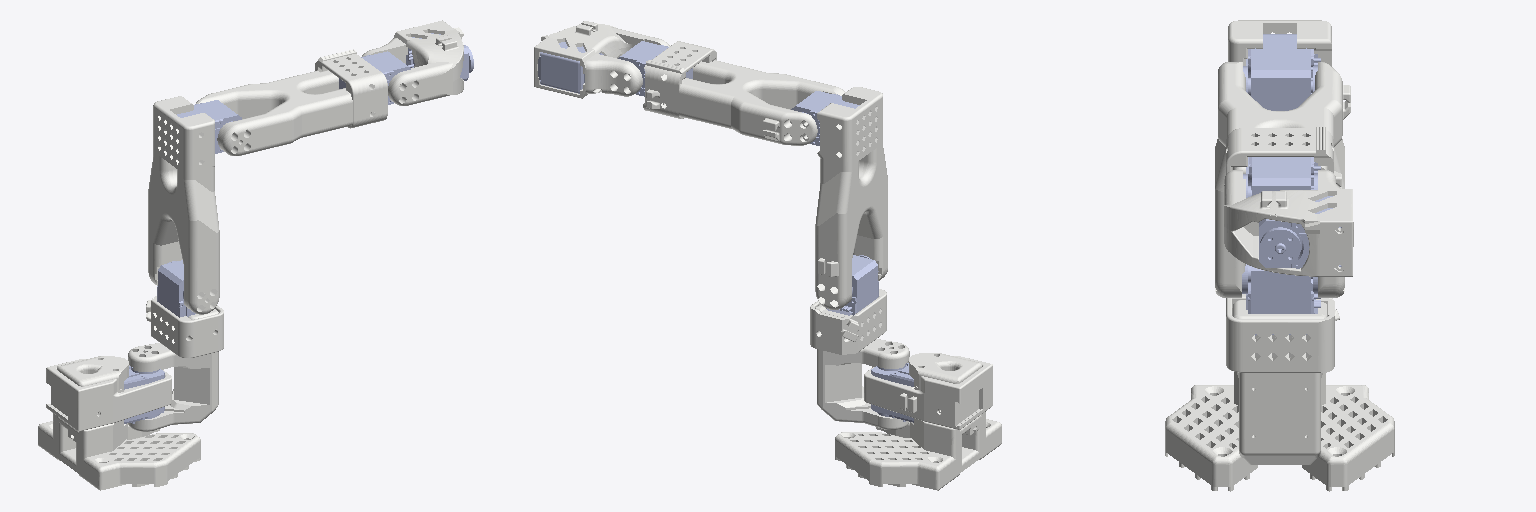
robot.urdf — so101:
<?xml version="1.0" ?>
<!-- Generated using onshape-to-robot -->
<!-- Onshape https://cad.onshape.com/documents/df54c2d0d5118dfe6b247a42/w/10fff0edb753715a22c52ae0/e/c8c1bb34d2419fdf63a96d15 -->
<robot name="so101">
  <!-- Link base_link -->
  <link name="base_link">
    <inertial>
      <origin xyz="0.0185 -0 0.0306" rpy="0 0 0"/>
      <mass value="0.2332"/>
      <inertia ixx="0.0002" ixy="-0" ixz="0" iyy="0.0002" iyz="0" izz="0.0002"/>
    </inertial>
    <!-- Part sts3215_03a -->
    <visual>
      <origin xyz="0.0327 0 0.0461" rpy="-0 -0 0"/>
      <geometry>
        <mesh filename="package://assets/sts3215_03a.stl"/>
      </geometry>
      <material name="sts3215_03a_material">
        <color rgba="0.7961 0.8235 0.9373 1"/>
      </material>
    </visual>
    <collision>
      <origin xyz="0.0327 0 0.0461" rpy="-0 -0 0"/>
      <geometry>
        <mesh filename="package://assets/sts3215_03a.stl"/>
      </geometry>
    </collision>
    <!-- Part base_link_step -->
    <visual>
      <origin xyz="0 0 0" rpy="1.5708 0 1.5708"/>
      <geometry>
        <mesh filename="package://assets/base_link_step.stl"/>
      </geometry>
      <material name="base_link_step_material">
        <color rgba="0.9647 0.9647 0.9529 1"/>
      </material>
    </visual>
    <collision>
      <origin xyz="0 0 0" rpy="1.5708 0 1.5708"/>
      <geometry>
        <mesh filename="package://assets/base_link_step.stl"/>
      </geometry>
    </collision>
    <!-- Part base_motor_holder_so101 -->
    <visual>
      <origin xyz="0 0 0" rpy="1.5708 0 1.5708"/>
      <geometry>
        <mesh filename="package://assets/base_motor_holder_so101.stl"/>
      </geometry>
      <material name="base_motor_holder_so101_material">
        <color rgba="0.9647 0.9647 0.9529 1"/>
      </material>
    </visual>
    <collision>
      <origin xyz="0 0 0" rpy="1.5708 0 1.5708"/>
      <geometry>
        <mesh filename="package://assets/base_motor_holder_so101.stl"/>
      </geometry>
    </collision>
  </link>
  <!-- Link link_1 -->
  <link name="link_1">
    <inertial>
      <origin xyz="0.0311 0 -0.012" rpy="0 0 0"/>
      <mass value="0.1528"/>
      <inertia ixx="0.0002" ixy="0" ixz="0" iyy="0.0002" iyz="-0" izz="0"/>
    </inertial>
    <!-- Part rotation_pitch_so101 -->
    <visual>
      <origin xyz="-0.012 0 0.0464" rpy="-1.5708 0 3.1416"/>
      <geometry>
        <mesh filename="package://assets/rotation_pitch_so101.stl"/>
      </geometry>
      <material name="rotation_pitch_so101_material">
        <color rgba="0.9647 0.9647 0.9529 1"/>
      </material>
    </visual>
    <collision>
      <origin xyz="-0.012 0 0.0464" rpy="-1.5708 0 3.1416"/>
      <geometry>
        <mesh filename="package://assets/rotation_pitch_so101.stl"/>
      </geometry>
    </collision>
    <!-- Part sts3215_03a_2 -->
    <visual>
      <origin xyz="0.0306 -0.0005 -0.0417" rpy="-1.5708 1.5708 0"/>
      <geometry>
        <mesh filename="package://assets/sts3215_03a.stl"/>
      </geometry>
      <material name="sts3215_03a_2_material">
        <color rgba="0.7961 0.8235 0.9373 1"/>
      </material>
    </visual>
    <collision>
      <origin xyz="0.0306 -0.0005 -0.0417" rpy="-1.5708 1.5708 0"/>
      <geometry>
        <mesh filename="package://assets/sts3215_03a.stl"/>
      </geometry>
    </collision>
    <!-- Part rotation_pitch_so101_2 -->
    <visual>
      <origin xyz="0.0678 -0.0002 0.0158" rpy="-1.5708 -1.5708 0"/>
      <geometry>
        <mesh filename="package://assets/rotation_pitch_so101__2.stl"/>
      </geometry>
      <material name="rotation_pitch_so101_2_material">
        <color rgba="0.9647 0.9647 0.9529 1"/>
      </material>
    </visual>
    <collision>
      <origin xyz="0.0678 -0.0002 0.0158" rpy="-1.5708 -1.5708 0"/>
      <geometry>
        <mesh filename="package://assets/rotation_pitch_so101__2.stl"/>
      </geometry>
    </collision>
  </link>
  <!-- Link link_2 -->
  <link name="link_2">
    <inertial>
      <origin xyz="-0.0738 -0.0036 0.0183" rpy="0 0 0"/>
      <mass value="0.1969"/>
      <inertia ixx="0.0001" ixy="-0" ixz="-0" iyy="0.0003" iyz="0" izz="0.0003"/>
    </inertial>
    <!-- Part upper_arm_so101 -->
    <visual>
      <origin xyz="-0.0651 0.012 0.0182" rpy="-3.1416 -0 0"/>
      <geometry>
        <mesh filename="package://assets/upper_arm_so101.stl"/>
      </geometry>
      <material name="upper_arm_so101_material">
        <color rgba="0.9647 0.9647 0.9529 1"/>
      </material>
    </visual>
    <collision>
      <origin xyz="-0.0651 0.012 0.0182" rpy="-3.1416 -0 0"/>
      <geometry>
        <mesh filename="package://assets/upper_arm_so101.stl"/>
      </geometry>
    </collision>
    <!-- Part sts3215_03a_3 -->
    <visual>
      <origin xyz="-0.1126 -0.0155 0.0188" rpy="3.1416 0 -1.5708"/>
      <geometry>
        <mesh filename="package://assets/sts3215_03a.stl"/>
      </geometry>
      <material name="sts3215_03a_3_material">
        <color rgba="0.7961 0.8235 0.9373 1"/>
      </material>
    </visual>
    <collision>
      <origin xyz="-0.1126 -0.0155 0.0188" rpy="3.1416 0 -1.5708"/>
      <geometry>
        <mesh filename="package://assets/sts3215_03a.stl"/>
      </geometry>
    </collision>
  </link>
  <!-- Link 5dof_link_3 -->
  <link name="5dof_link_3">
    <inertial>
      <origin xyz="0.0787 -0.0016 -0.0001" rpy="0 0 0"/>
      <mass value="0.1837"/>
      <inertia ixx="0.0001" ixy="0" ixz="-0" iyy="0.0003" iyz="0" izz="0.0003"/>
    </inertial>
    <!-- Part under_arm_so101 -->
    <visual>
      <origin xyz="0.0648 0.032 0" rpy="3.1416 0 3.1416"/>
      <geometry>
        <mesh filename="package://assets/under_arm_so101.stl"/>
      </geometry>
      <material name="under_arm_so101_material">
        <color rgba="0.9647 0.9647 0.9529 1"/>
      </material>
    </visual>
    <collision>
      <origin xyz="0.0648 0.032 0" rpy="3.1416 0 3.1416"/>
      <geometry>
        <mesh filename="package://assets/under_arm_so101.stl"/>
      </geometry>
    </collision>
    <!-- Part motor_holder_so101_wrist -->
    <visual>
      <origin xyz="0.0648 0.032 -0.0002" rpy="3.1416 0 3.1416"/>
      <geometry>
        <mesh filename="package://assets/motor_holder_so101_wrist.stl"/>
      </geometry>
      <material name="motor_holder_so101_wrist_material">
        <color rgba="0.9647 0.9647 0.9529 1"/>
      </material>
    </visual>
    <collision>
      <origin xyz="0.0648 0.032 -0.0002" rpy="3.1416 0 3.1416"/>
      <geometry>
        <mesh filename="package://assets/motor_holder_so101_wrist.stl"/>
      </geometry>
    </collision>
    <!-- Part sts3215_03a_4 -->
    <visual>
      <origin xyz="0.1224 -0.0052 0.0006" rpy="3.1416 0 -0"/>
      <geometry>
        <mesh filename="package://assets/sts3215_03a.stl"/>
      </geometry>
      <material name="sts3215_03a_4_material">
        <color rgba="0.7961 0.8235 0.9373 1"/>
      </material>
    </visual>
    <collision>
      <origin xyz="0.1224 -0.0052 0.0006" rpy="3.1416 0 -0"/>
      <geometry>
        <mesh filename="package://assets/sts3215_03a.stl"/>
      </geometry>
    </collision>
  </link>
  <!-- Link 5dof_link_4 -->
  <link name="5dof_link_4">
    <inertial>
      <origin xyz="0.0356 -0.0002 0.0079" rpy="0 0 0"/>
      <mass value="0.0905"/>
      <inertia ixx="0" ixy="0" ixz="-0" iyy="0.0001" iyz="-0" izz="0"/>
    </inertial>
    <!-- Part wrist_roll_pitch_so101 -->
    <visual>
      <origin xyz="0.028 0 -0" rpy="-0 -1.5708 0"/>
      <geometry>
        <mesh filename="package://assets/wrist_roll_pitch_so101.stl"/>
      </geometry>
      <material name="wrist_roll_pitch_so101_material">
        <color rgba="0.9647 0.9647 0.9529 1"/>
      </material>
    </visual>
    <collision>
      <origin xyz="0.028 0 -0" rpy="-0 -1.5708 0"/>
      <geometry>
        <mesh filename="package://assets/wrist_roll_pitch_so101.stl"/>
      </geometry>
    </collision>
    <!-- Part sts3215_03a_5 -->
    <visual>
      <origin xyz="0.0424 0 0.0125" rpy="0 1.5708 0"/>
      <geometry>
        <mesh filename="package://assets/sts3215_03a.stl"/>
      </geometry>
      <material name="sts3215_03a_5_material">
        <color rgba="0.7961 0.8235 0.9373 1"/>
      </material>
    </visual>
    <collision>
      <origin xyz="0.0424 0 0.0125" rpy="0 1.5708 0"/>
      <geometry>
        <mesh filename="package://assets/sts3215_03a.stl"/>
      </geometry>
    </collision>
  </link>
  <!-- Link 5dof_link_5 -->
  <link name="5dof_link_5">
    <inertial>
      <origin xyz="-0 -0 -0.0013" rpy="0 0 0"/>
      <mass value="0.0019"/>
      <inertia ixx="0" ixy="0" ixz="0" iyy="0" iyz="0" izz="0"/>
    </inertial>
    <!-- Part 5dof_link_5 -->
    <visual>
      <origin xyz="0 -0 -0" rpy="-3.1416 -0 0"/>
      <geometry>
        <mesh filename="package://assets/5dof_link_5.stl"/>
      </geometry>
      <material name="5dof_link_5_material">
        <color rgba="0.6157 0.8118 0.9294 1"/>
      </material>
    </visual>
    <collision>
      <origin xyz="0 -0 -0" rpy="-3.1416 -0 0"/>
      <geometry>
        <mesh filename="package://assets/5dof_link_5.stl"/>
      </geometry>
    </collision>
  </link>
  <!-- Joint from 5dof_link_4 to 5dof_link_5 -->
  <joint name="joint_5" type="revolute">
    <origin xyz="0.0586 0 -0" rpy="1.5708 -0 -1.5708"/>
    <parent link="5dof_link_4"/>
    <child link="5dof_link_5"/>
    <axis xyz="0 0 1"/>
    <limit effort="10" velocity="10" lower="-2.7437" upper="2.8414"/>
  </joint>
  <!-- Joint from 5dof_link_3 to 5dof_link_4 -->
  <joint name="joint_4" type="revolute">
    <origin xyz="0.1349 -0.0052 0.0001" rpy="-0 0 -0"/>
    <parent link="5dof_link_3"/>
    <child link="5dof_link_4"/>
    <axis xyz="0 0 1"/>
    <limit effort="10" velocity="10" lower="-1.6581" upper="1.6581"/>
  </joint>
  <!-- Joint from link_2 to 5dof_link_3 -->
  <joint name="joint_3" type="revolute">
    <origin xyz="-0.1126 -0.028 0.0183" rpy="0 -0 -1.5708"/>
    <parent link="link_2"/>
    <child link="5dof_link_3"/>
    <axis xyz="0 0 1"/>
    <limit effort="10" velocity="10" lower="-1.6895" upper="1.5708"/>
  </joint>
  <!-- Joint from link_1 to link_2 -->
  <joint name="joint_2" type="revolute">
    <origin xyz="0.0306 0.0182 -0.0542" rpy="1.5708 -1.5708 0"/>
    <parent link="link_1"/>
    <child link="link_2"/>
    <axis xyz="0 0 1"/>
    <limit effort="10" velocity="10" lower="-1.7453" upper="1.7453"/>
  </joint>
  <!-- Joint from base_link to link_1 -->
  <joint name="joint_1" type="revolute">
    <origin xyz="0.0452 0 0.0648" rpy="3.1416 -0 0"/>
    <parent link="base_link"/>
    <child link="link_1"/>
    <axis xyz="0 0 1"/>
    <limit effort="10" velocity="10" lower="-1.9199" upper="1.9199"/>
  </joint>
</robot>

--- Facts derived from the render (not from the file) ---
The picture shows the robot from 3 angles, left to right: view 1: azimuth 30°, elevation 25°; view 2: azimuth 150°, elevation 25°; view 3: azimuth 270°, elevation 25°; orthographic projection.
Model so101 with 6 links and 5 joints (5 revolute), rooted at base_link, posed every joint at zero.
Links seen in each view (by area): view 1: base_link, link_2, 5dof_link_3, link_1, 5dof_link_4; view 2: base_link, link_2, 5dof_link_3, link_1, 5dof_link_4; view 3: link_1, base_link, 5dof_link_3, 5dof_link_4, link_2.
Link boxes in pixels (bbox=[...]): base_link: bbox=[38, 356, 200, 490]; link_2: bbox=[148, 96, 241, 314]; 5dof_link_3: bbox=[196, 49, 410, 155]; link_1: bbox=[128, 260, 223, 431]; 5dof_link_4: bbox=[362, 20, 473, 105]; base_link: bbox=[835, 353, 1001, 490]; link_2: bbox=[791, 87, 887, 309]; 5dof_link_3: bbox=[618, 41, 845, 145]; link_1: bbox=[810, 255, 909, 429]; 5dof_link_4: bbox=[534, 21, 669, 98]; link_1: bbox=[1226, 264, 1339, 464]; base_link: bbox=[1165, 372, 1394, 491]; 5dof_link_3: bbox=[1218, 62, 1350, 197]; 5dof_link_4: bbox=[1224, 170, 1352, 276]; link_2: bbox=[1215, 20, 1353, 297].
Size in the robot's own frame: 0.3253 by 0.1109 by 0.2568 metres.
13 mesh visuals loaded from 10 distinct referenced files (9 binary STL); not drawn: 1 (reference not matched to a file when rendering).
